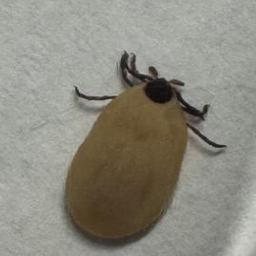Ixodes scapularis: (63, 53, 229, 241)
